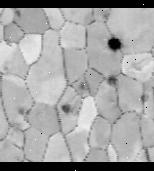good_void: (103, 33, 123, 53), (57, 103, 72, 117), (105, 73, 118, 87), (15, 104, 26, 116), (137, 92, 149, 103), (77, 81, 87, 92), (12, 10, 21, 20)
